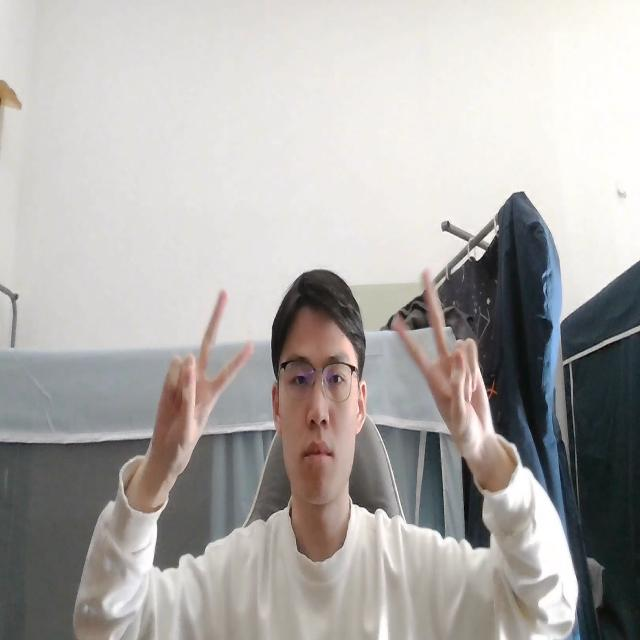yes: (138, 282, 263, 500), (386, 263, 494, 468)
